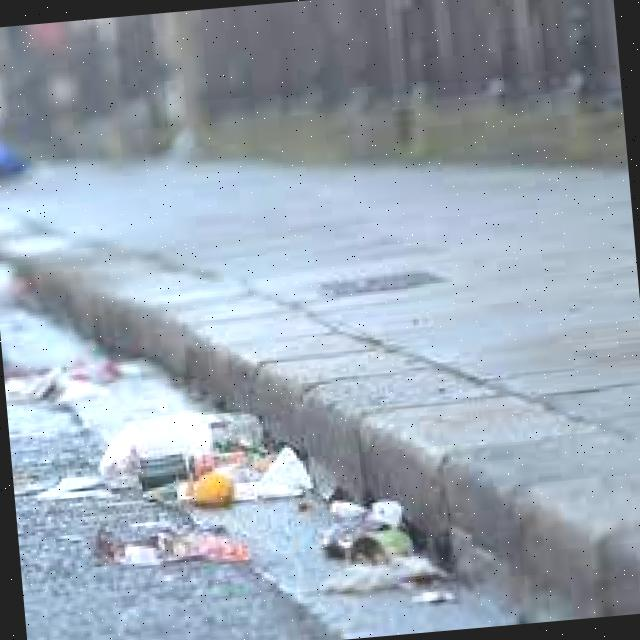curb: (359, 391, 580, 536), (446, 422, 640, 581), (292, 368, 497, 504), (248, 345, 430, 464)
